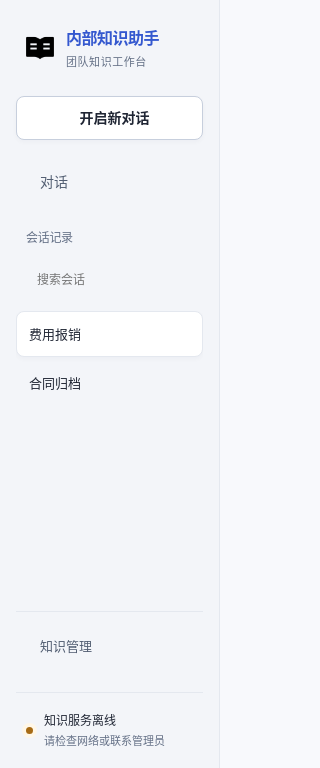
AppSidebar › filters sessions by title and last message
Type "材料" into the search field with placeholder "搜索会话" at point(114, 279), box [35,269,192,290]
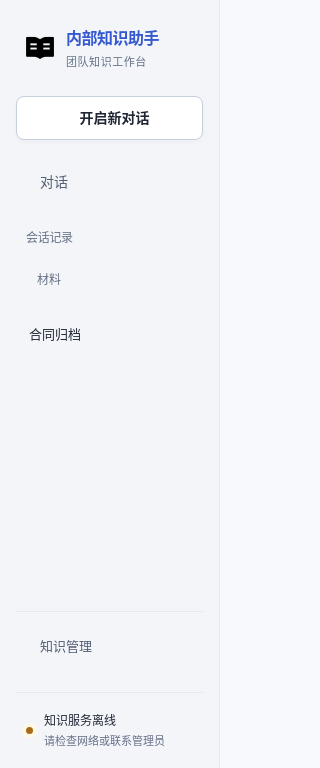
Check: the text "合同归档" is shown, box [29,325,81,343]
Check: the number of buttons with class "session-row" is 1, box [17,312,158,356]
Check: the text "费用报销" is gone
